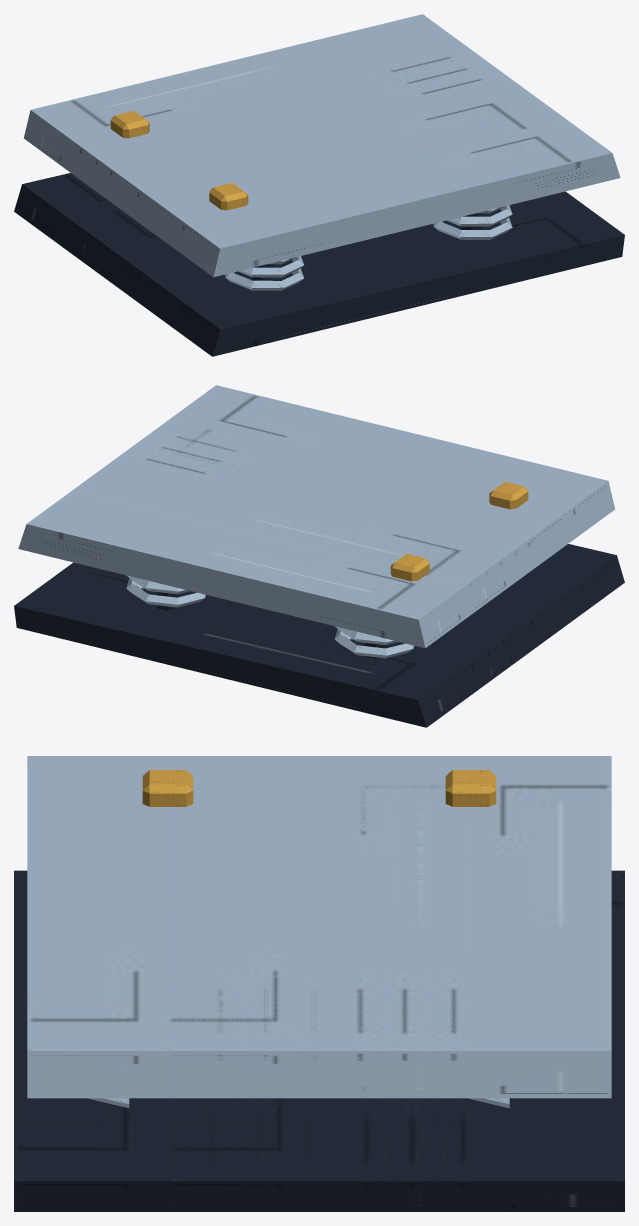
The model's file is clogs.glb.
3 renders of one model, top to bottom at view 1: azimuth 30°, elevation 25°; view 2: azimuth 150°, elevation 25°; view 3: azimuth 270°, elevation 25°, orthographic. The views are drawn at different scales.
Visible parts, largest first — view 1: foot_R, foot_L; view 2: foot_L, foot_R; view 3: foot_L, foot_R.
Boxes of the visible parts, x1,y1,x2,y2 form: foot_R: (65,47,624,356); foot_L: (14,14,574,319); foot_L: (14,418,574,727); foot_R: (66,385,624,690); foot_L: (166,756,624,1211); foot_R: (14,756,472,1211).
Bounding box in the file's own units: 0.305 × 0.081 × 0.254.
3 materials, 3 textured.
